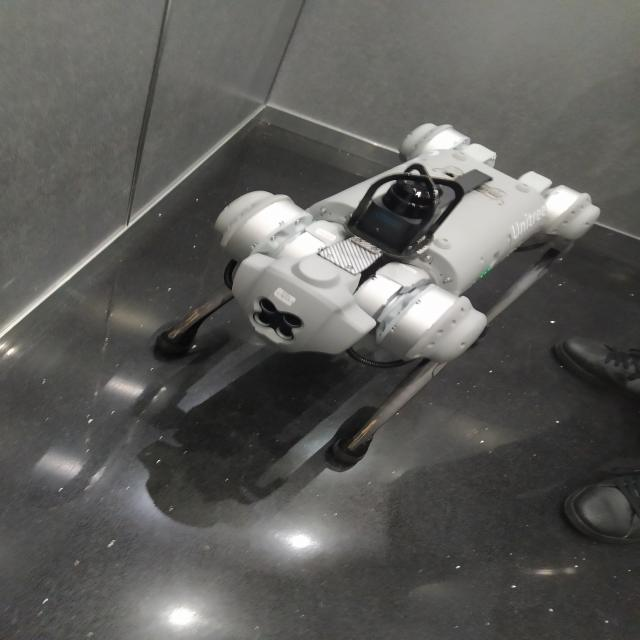unitree-go1-robot: (129, 107, 623, 480)
